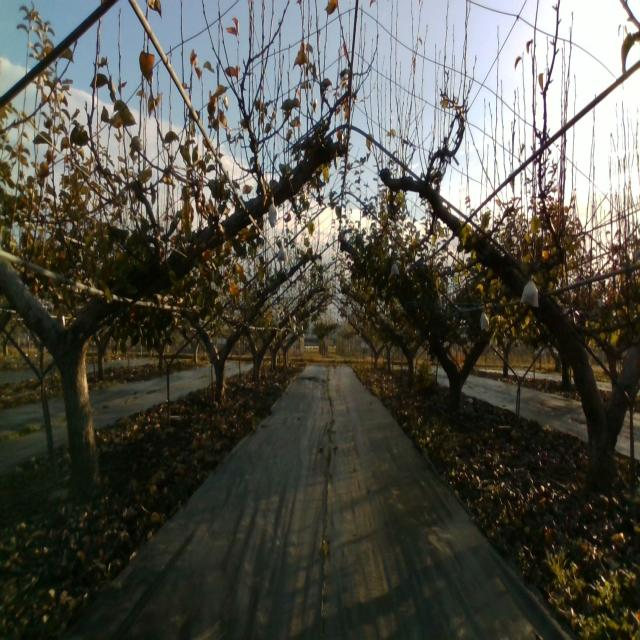pearbags: (519, 275, 539, 308), (268, 196, 279, 228), (276, 243, 287, 262)
